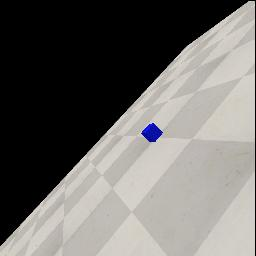box: (141, 123, 163, 142)
